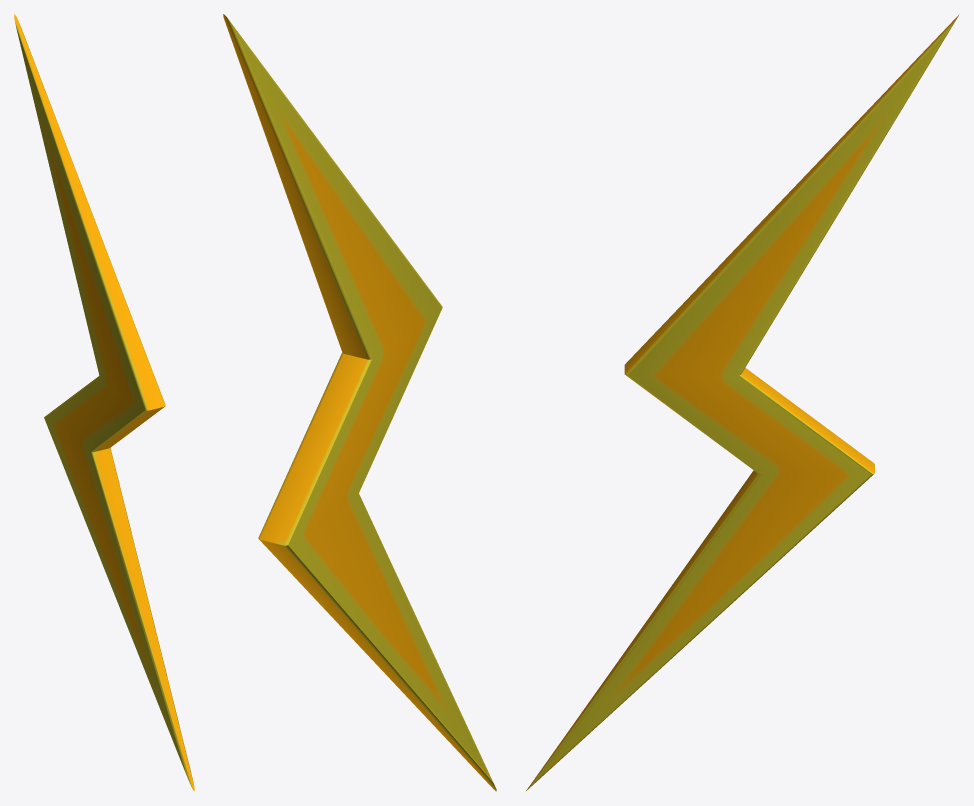
Rendered from Lighting.glb.
3 renders of one model, left to right at view 1: azimuth 30°, elevation 25°; view 2: azimuth 150°, elevation 25°; view 3: azimuth 270°, elevation 25°, orthographic. The views are drawn at different scales.
Visible parts, largest first — view 1: Lighting; view 2: Lighting; view 3: Lighting.
Boxes of the visible parts, <box> form: Lighting: <box>14,14,194,791</box>; Lighting: <box>223,14,496,791</box>; Lighting: <box>526,14,959,790</box>.
Size of the model in its own units: 0.0268 by 0.8193 by 0.4146.
Materials: 1 (1 with a texture image).
